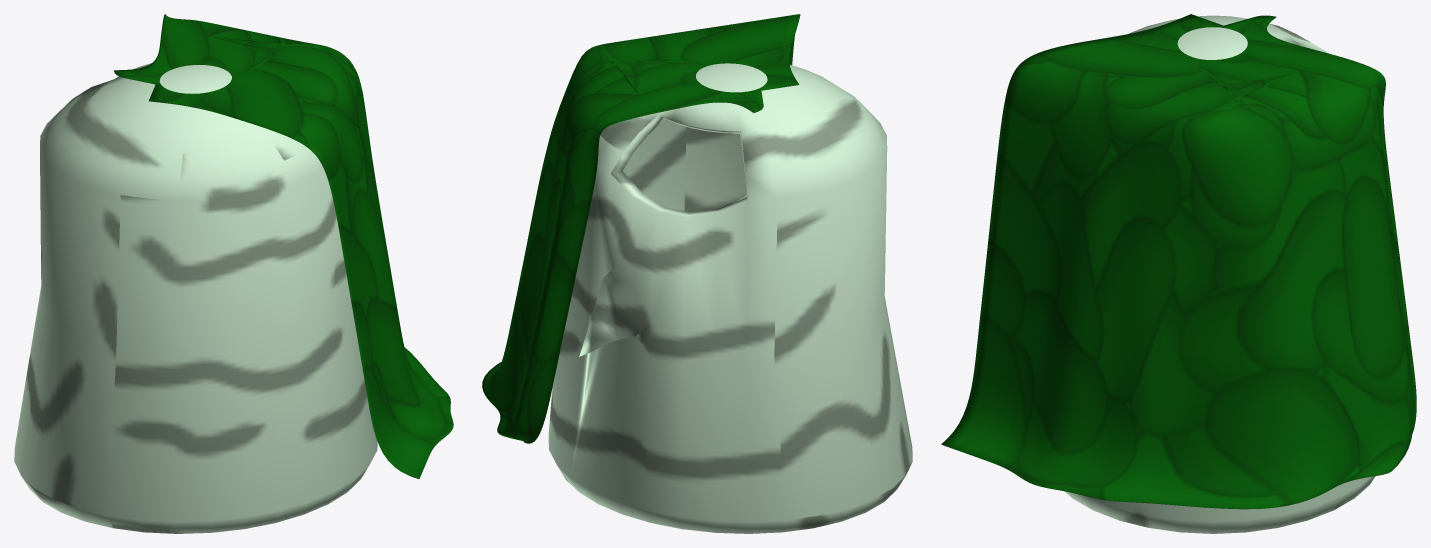
Rendered from item-jungle-ninja-cloak.glb.
3 renders of one model, left to right at view 1: azimuth 30°, elevation 25°; view 2: azimuth 150°, elevation 25°; view 3: azimuth 270°, elevation 25°, orthographic. The views are drawn at different scales.
Bounding box in the file's own units: 1.06 × 1.04 × 1.08.
Materials: 2 (2 with a texture image).
